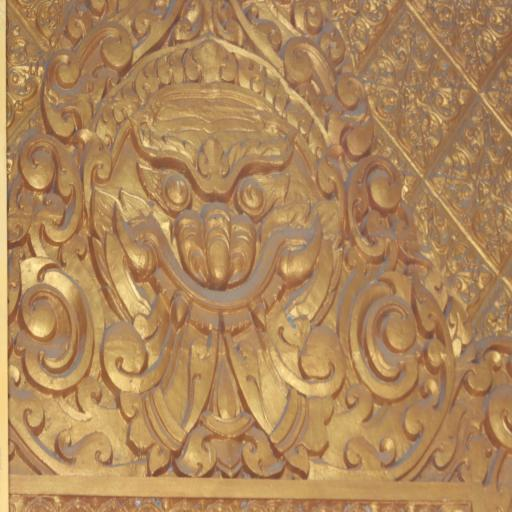hoa: (368, 10, 462, 160), (448, 98, 512, 244), (418, 182, 488, 309), (5, 35, 43, 106)
la: (8, 234, 128, 477), (337, 282, 448, 480), (12, 120, 84, 240), (450, 346, 512, 485), (348, 150, 414, 264)
lua: (294, 2, 324, 34), (323, 14, 340, 66), (69, 4, 92, 34)
